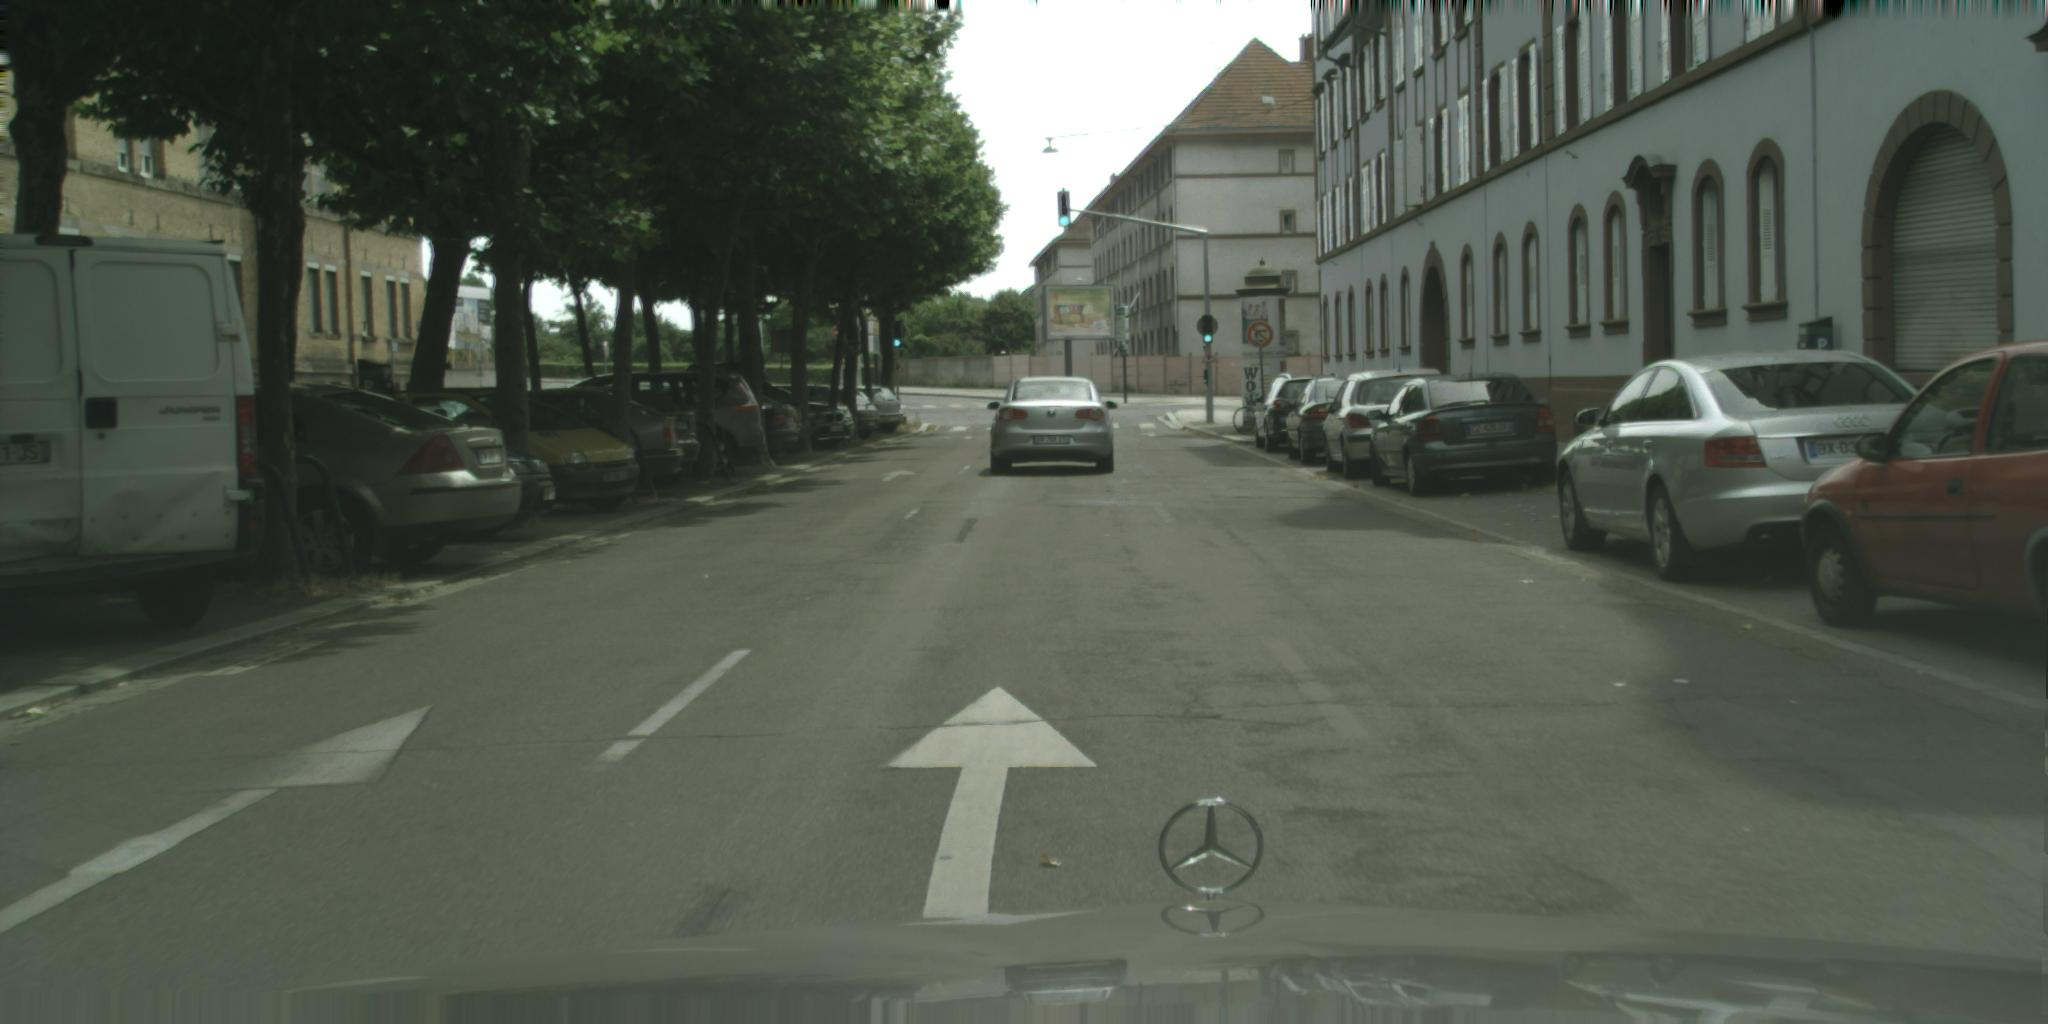bicycle: (1230, 406, 1277, 438)
car: (1, 234, 266, 630), (1557, 349, 1987, 584), (148, 376, 524, 579), (1800, 340, 2048, 630), (367, 388, 640, 513), (1365, 351, 1560, 498), (564, 372, 765, 477), (516, 389, 684, 498), (1324, 353, 1456, 482), (402, 436, 558, 545), (987, 376, 1119, 475), (573, 388, 703, 488), (697, 380, 805, 462), (738, 380, 856, 451), (1281, 376, 1368, 465), (1256, 374, 1339, 455), (764, 387, 882, 441), (837, 387, 905, 435)
